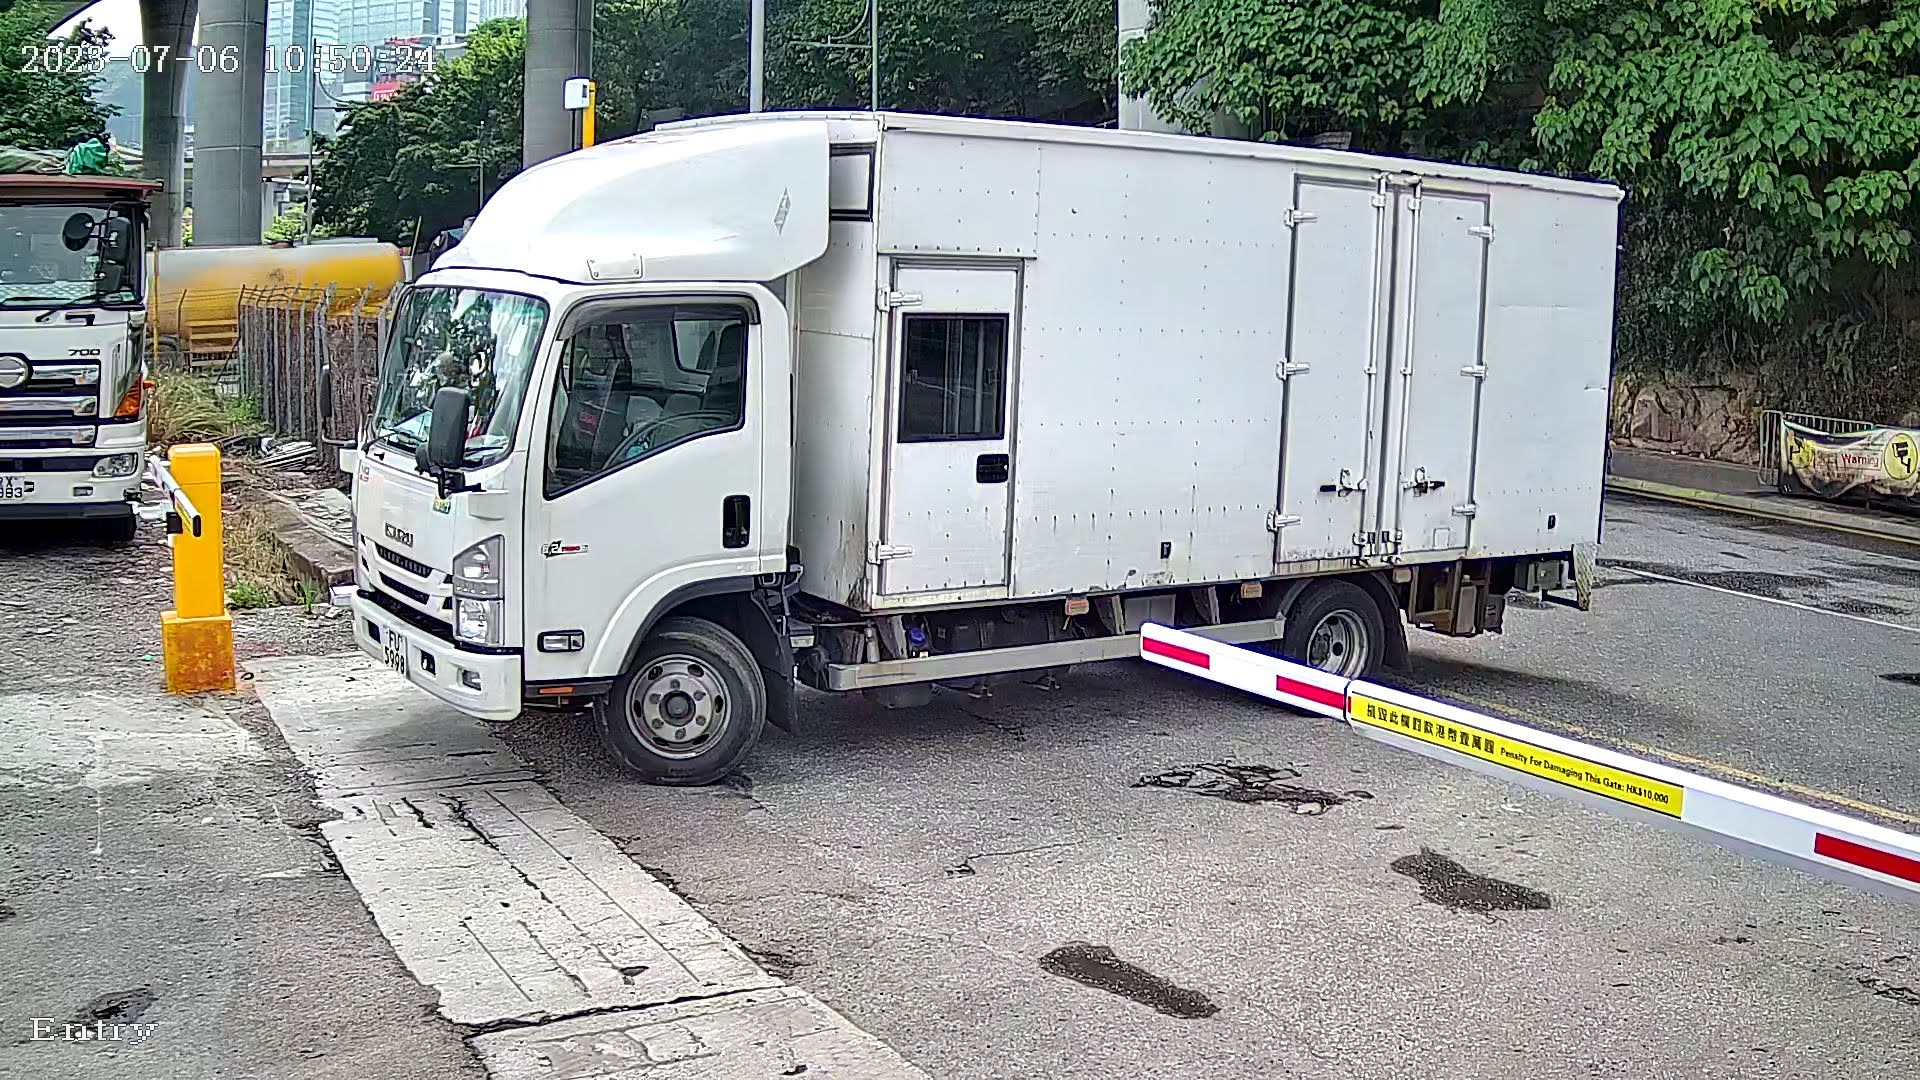truck: (309, 58, 1671, 822)
